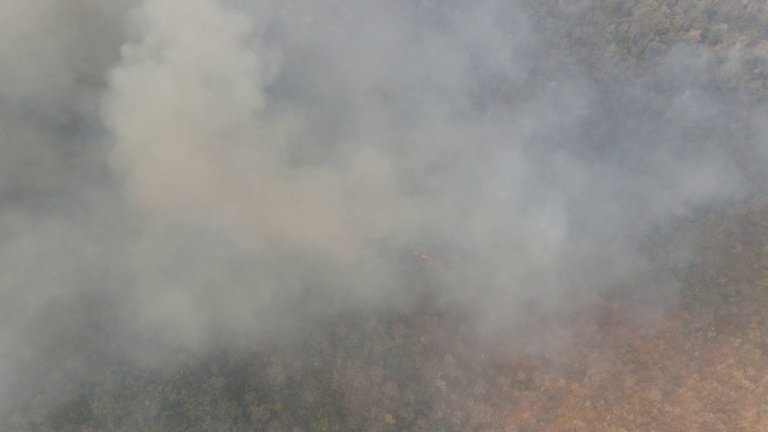fire: (408, 241, 451, 272)
smoke: (9, 5, 648, 377)
